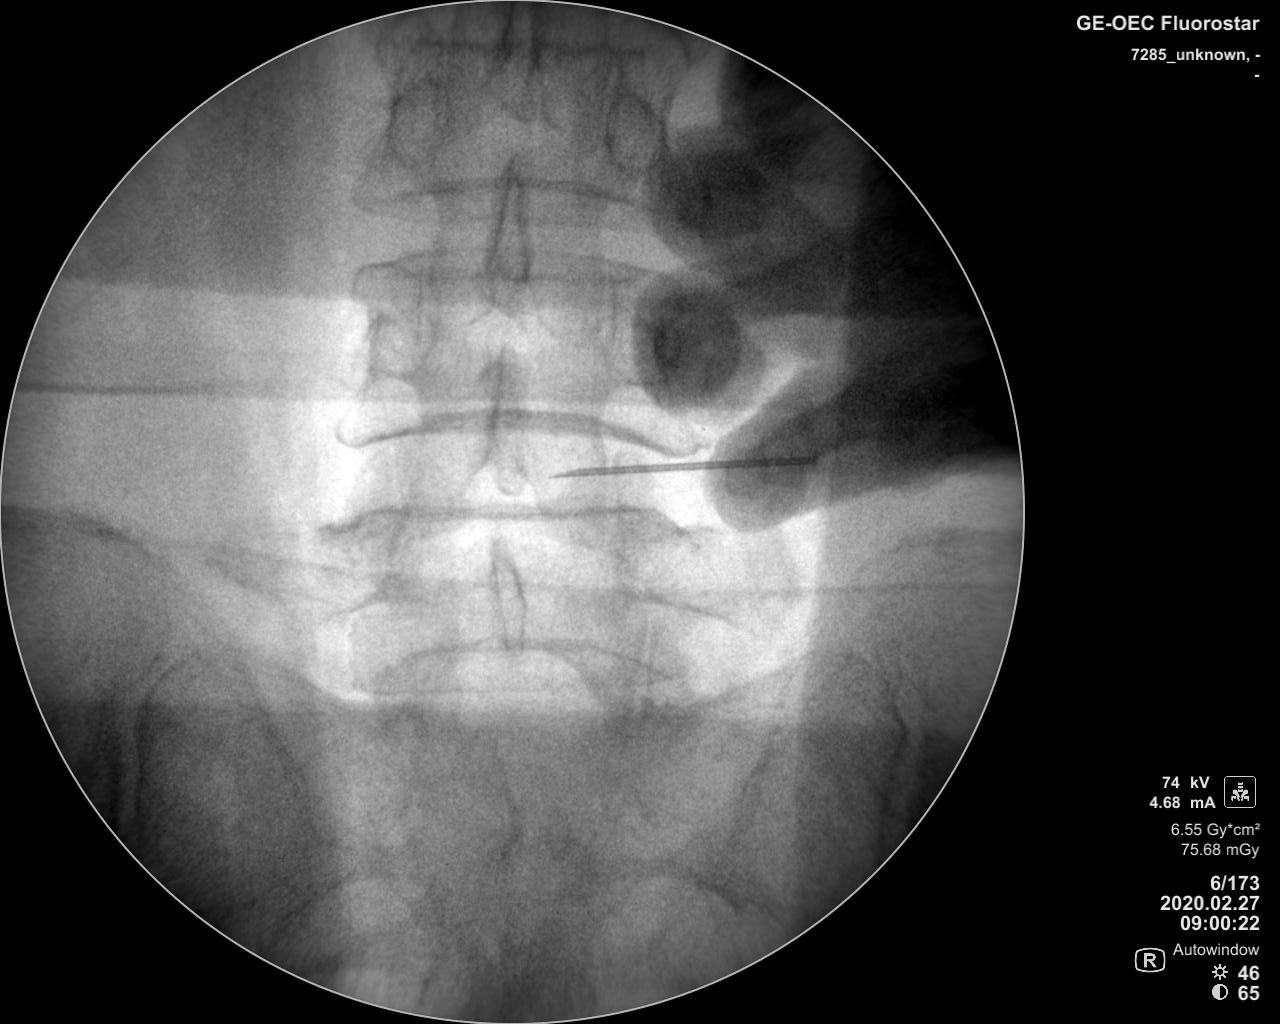eyes: (358, 282, 433, 375), (385, 69, 449, 169), (602, 86, 665, 174)
line: (341, 178, 651, 241), (316, 403, 671, 458), (320, 579, 721, 622), (341, 644, 675, 694), (315, 496, 682, 529), (350, 249, 644, 287), (395, 34, 652, 68)
nose: (488, 152, 535, 322), (485, 529, 533, 666), (487, 344, 528, 503), (492, 3, 538, 124)
